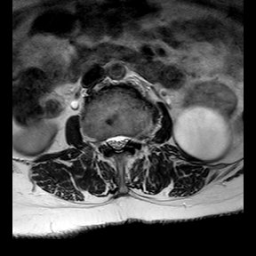CCS_normal: (114, 123, 121, 160)
LFS_stenosis: (129, 125, 137, 149)
LLS_stenosis: (121, 127, 129, 152)
RFS_normal: (98, 129, 106, 153)
RLS_normal: (106, 128, 114, 152)
